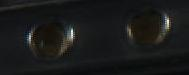joints: (23, 16, 75, 64), (122, 6, 172, 47)
